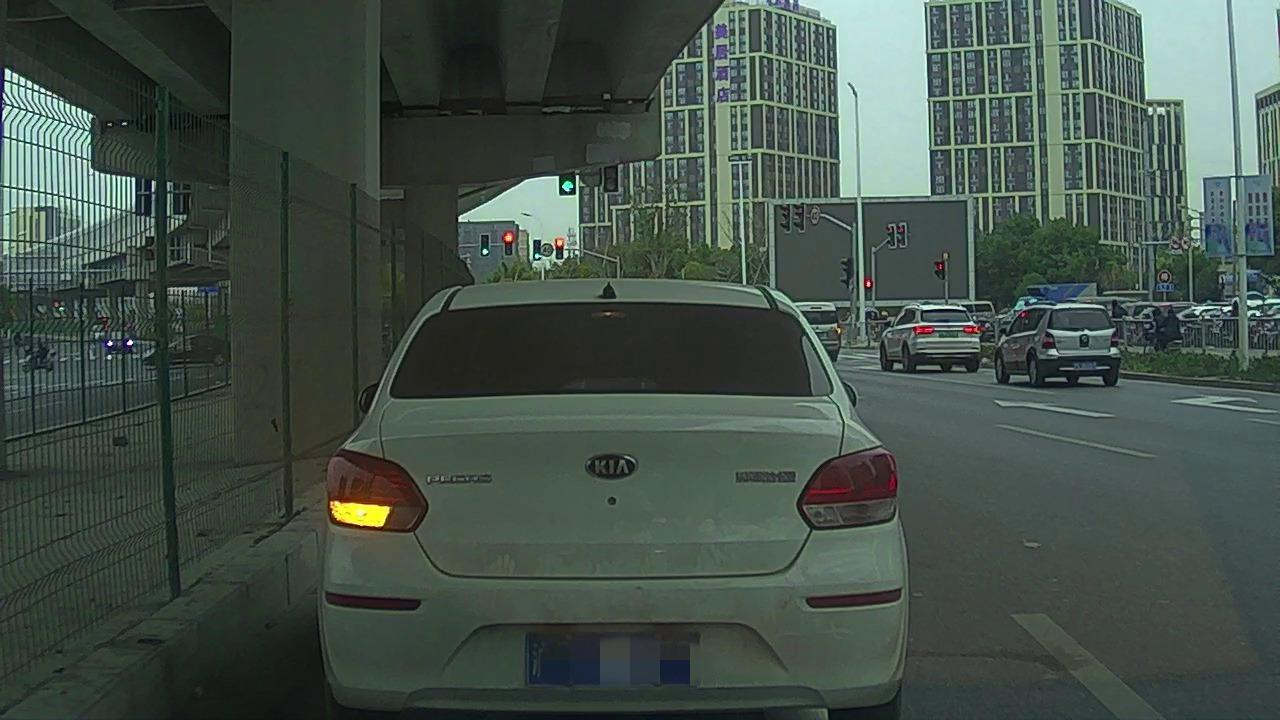traffic_light: (603, 166, 616, 192), (560, 175, 574, 196), (556, 239, 564, 258), (482, 234, 489, 255), (534, 239, 541, 260), (506, 234, 512, 255)
